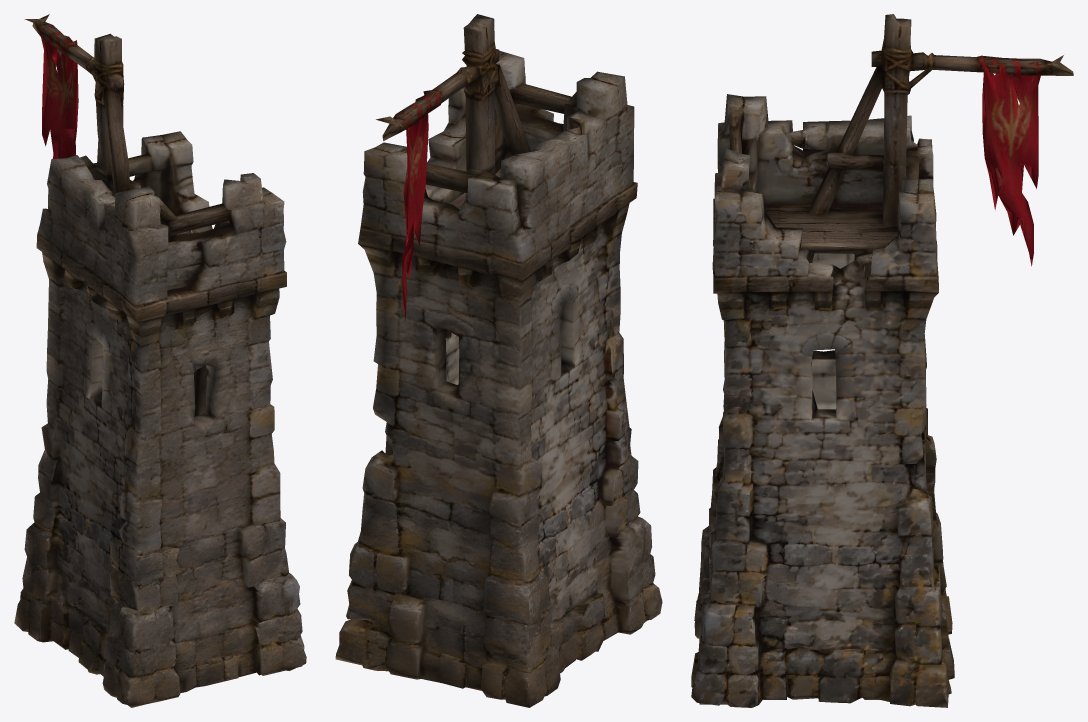
Rendered from watchtower-tripo.glb.
The picture shows the model from 3 angles, left to right: view 1: azimuth 30°, elevation 25°; view 2: azimuth 150°, elevation 25°; view 3: azimuth 270°, elevation 25°; orthographic projection. The views are drawn at different scales.
Parts seen in each view (by area): view 1: tripo_node_dd3be72c-97b0-436f-9c2e-018df136dc0f; view 2: tripo_node_dd3be72c-97b0-436f-9c2e-018df136dc0f; view 3: tripo_node_dd3be72c-97b0-436f-9c2e-018df136dc0f.
Part boxes in pixels (left/top/right/bottom): tripo_node_dd3be72c-97b0-436f-9c2e-018df136dc0f: left=14, top=14, right=306, bottom=707; tripo_node_dd3be72c-97b0-436f-9c2e-018df136dc0f: left=335, top=14, right=662, bottom=707; tripo_node_dd3be72c-97b0-436f-9c2e-018df136dc0f: left=691, top=14, right=1073, bottom=707.
Bounding box in the file's own units: 0.324 × 1 × 0.546.
Materials: 1 (1 with a texture image).
